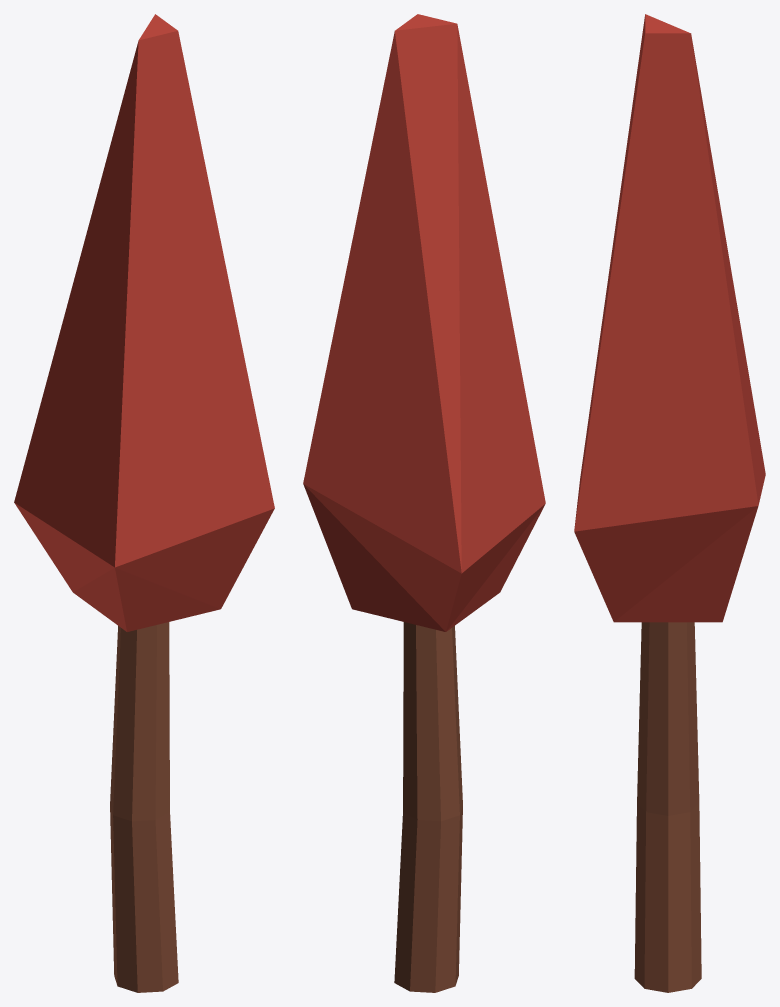
File: Tree_49_summer_red_mat.fbx
3 views of the same model, side by side, from view 1: azimuth 30°, elevation 25°; view 2: azimuth 150°, elevation 25°; view 3: azimuth 270°, elevation 25° (orthographic).
Visible parts, largest first — view 1: Tree_49_summer_red_mat; view 2: Tree_49_summer_red_mat; view 3: Tree_49_summer_red_mat.
Boxes of the visible parts, x1,y1,x2,y2 form: Tree_49_summer_red_mat: (14,14,274,992); Tree_49_summer_red_mat: (303,14,545,992); Tree_49_summer_red_mat: (574,14,765,992).
Size of the model in its own units: 47.16 by 259 by 47.16.
